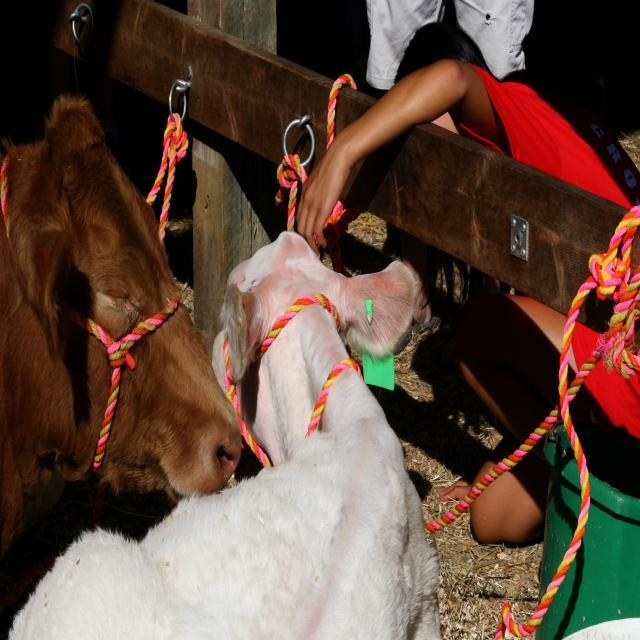cow: (10, 232, 440, 639), (0, 96, 179, 557), (99, 305, 241, 498)
